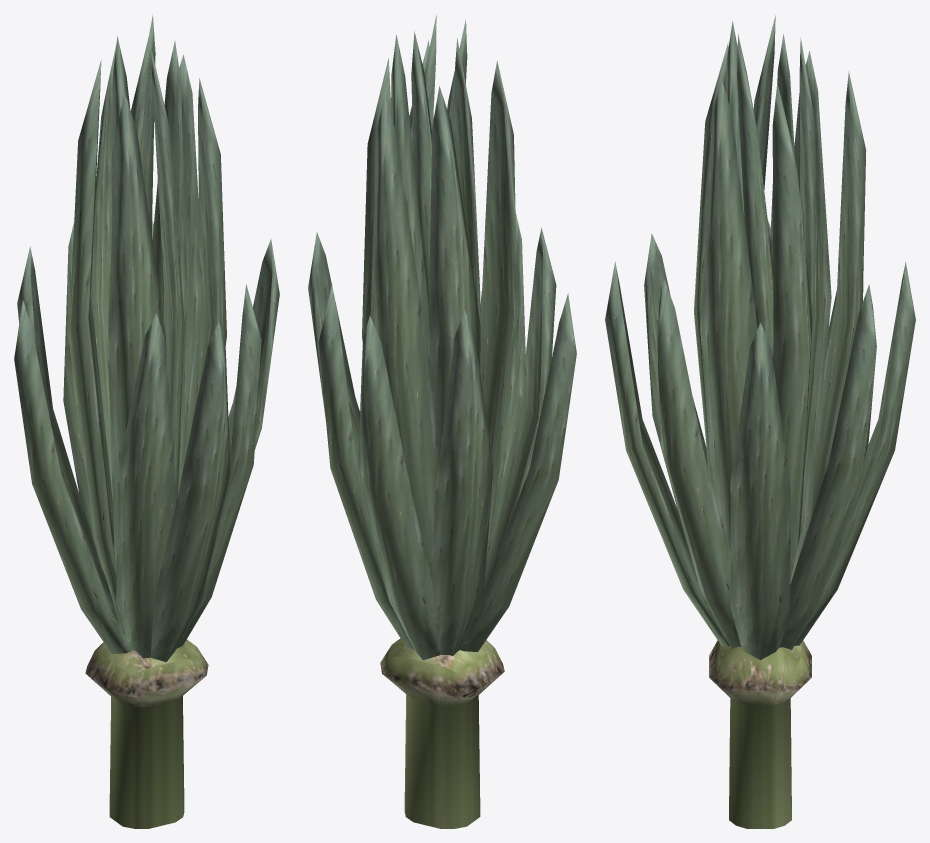
The model's file is agave_plant.glb.
The picture shows the model from 3 angles, left to right: view 1: azimuth 30°, elevation 25°; view 2: azimuth 150°, elevation 25°; view 3: azimuth 270°, elevation 25°; orthographic projection.
Visible parts, largest first — view 1: Cube; view 2: Cube; view 3: Cube.
Part boxes in pixels (<box>): Cube: <box>14,15,279,828</box>; Cube: <box>308,14,576,828</box>; Cube: <box>605,15,915,828</box>.
Bounding box in the file's own units: 1.42 × 3.98 × 1.42.
1 material, 1 textured.
